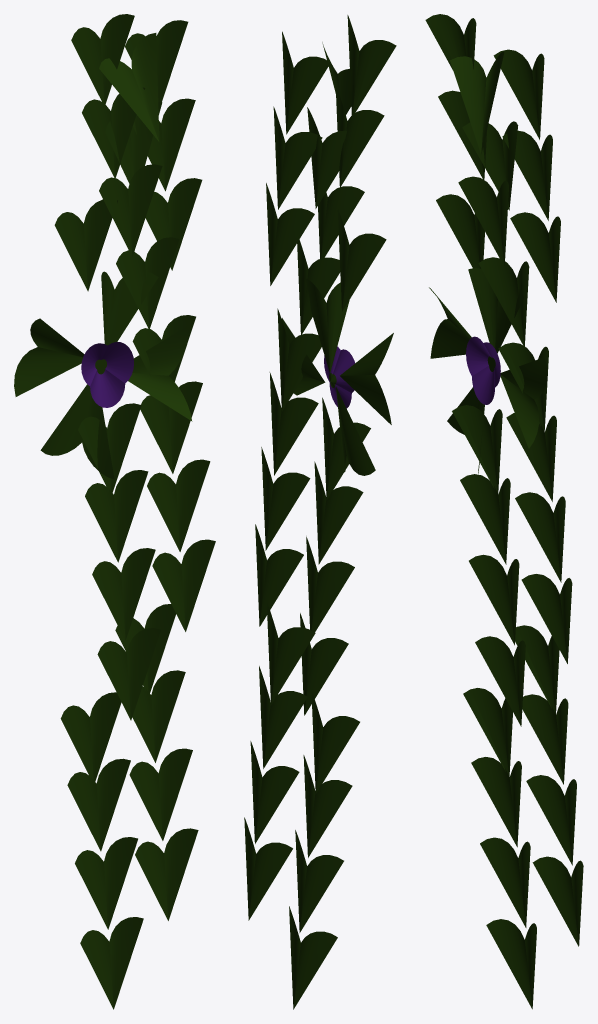
File: Plant_Vine_02.fbx
3 views of the same model, side by side, from view 1: azimuth 30°, elevation 25°; view 2: azimuth 150°, elevation 25°; view 3: azimuth 330°, elevation 25° (orthographic). The views are drawn at different scales.
Visible parts, largest first — view 1: Plant_Vine_02; view 2: Plant_Vine_02; view 3: Plant_Vine_02.
Part boxes in pixels (<box>): Plant_Vine_02: <box>14,14,215,1009</box>; Plant_Vine_02: <box>244,15,396,1009</box>; Plant_Vine_02: <box>425,14,583,1009</box>.
Size of the model in its own units: 15.22 by 86.71 by 7.49.
